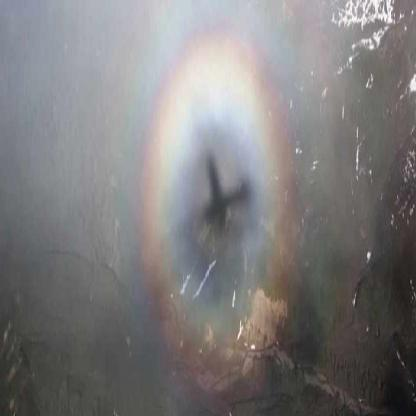CIV_Plane: (190, 146, 254, 260)
